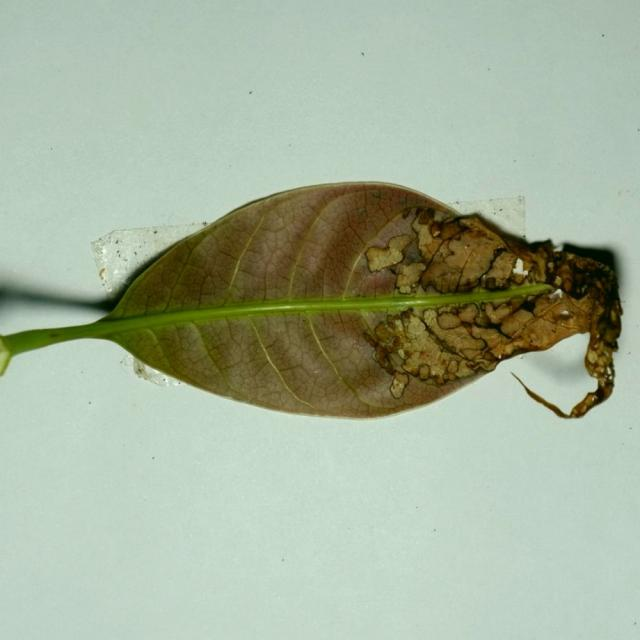Anthracnose: (413, 218, 510, 294), (367, 312, 433, 394), (495, 295, 582, 356), (421, 307, 489, 363), (488, 228, 549, 287), (366, 222, 422, 273), (364, 233, 413, 273), (455, 247, 493, 290), (480, 251, 520, 290), (469, 326, 509, 356), (415, 216, 443, 258), (498, 309, 537, 337), (529, 239, 557, 277), (394, 261, 427, 293), (445, 329, 485, 355), (532, 292, 570, 319), (483, 299, 519, 324), (431, 218, 467, 241), (488, 337, 523, 360), (402, 313, 428, 340), (402, 350, 426, 376), (387, 234, 411, 257), (374, 322, 398, 345), (391, 370, 409, 397), (436, 311, 463, 329), (454, 359, 478, 378), (457, 304, 480, 323), (388, 315, 406, 335), (512, 257, 530, 277), (459, 347, 484, 361), (363, 330, 381, 349), (509, 268, 529, 285), (373, 344, 389, 365), (423, 309, 440, 328), (411, 215, 428, 234), (418, 209, 433, 225), (400, 310, 413, 326), (419, 364, 431, 380), (447, 359, 459, 373), (397, 284, 413, 294), (397, 348, 406, 359)
Mango: (0, 182, 623, 422)
